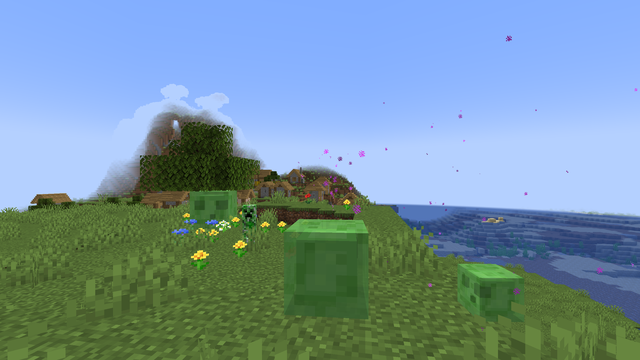creepers: (238, 202, 259, 248)
slimes: (279, 216, 366, 322), (458, 261, 524, 324), (186, 188, 240, 228)
